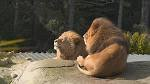lion: (83, 17, 130, 78), (52, 28, 86, 59)
